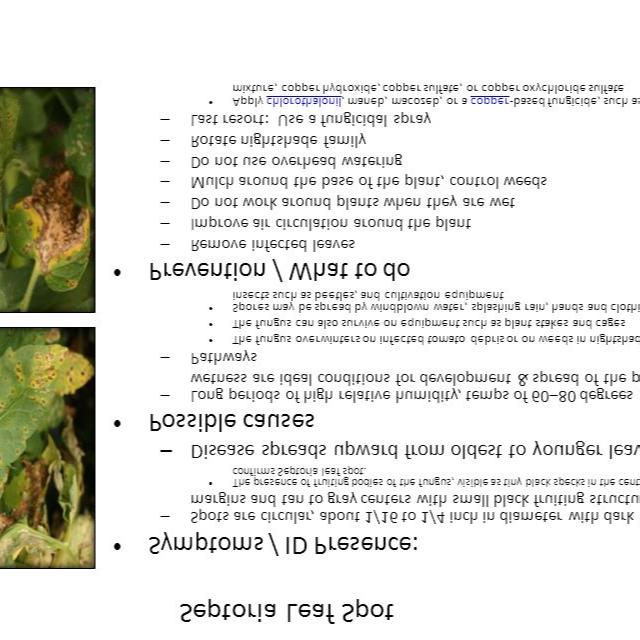Tomato Septoria leaf spot: (0, 342, 93, 526), (0, 160, 91, 302), (0, 99, 13, 281)
